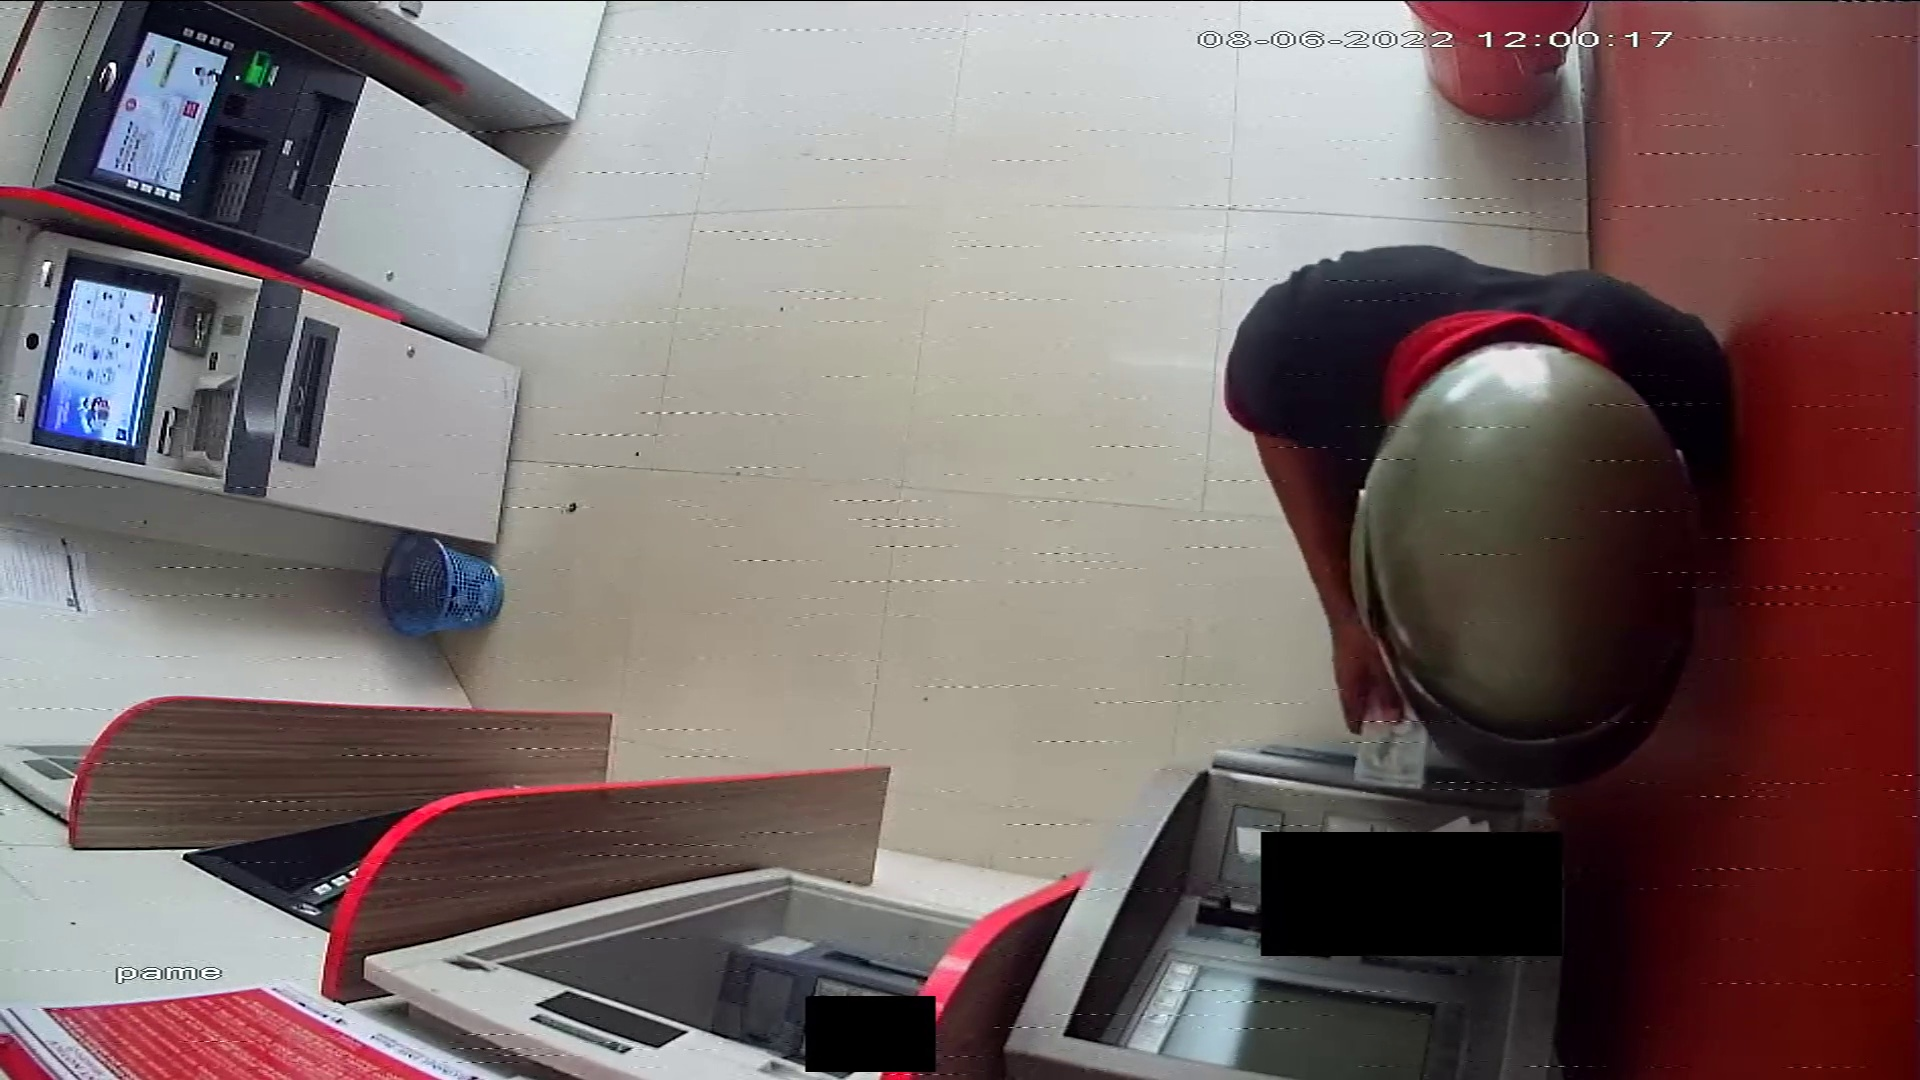helmet: (1346, 342, 1704, 788)
person: (1221, 244, 1733, 792)
